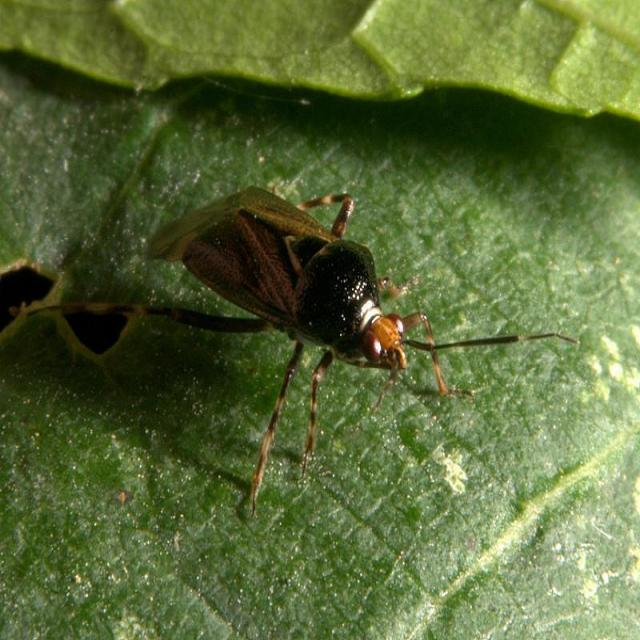Miridae-Adult-: (126, 176, 555, 466)
